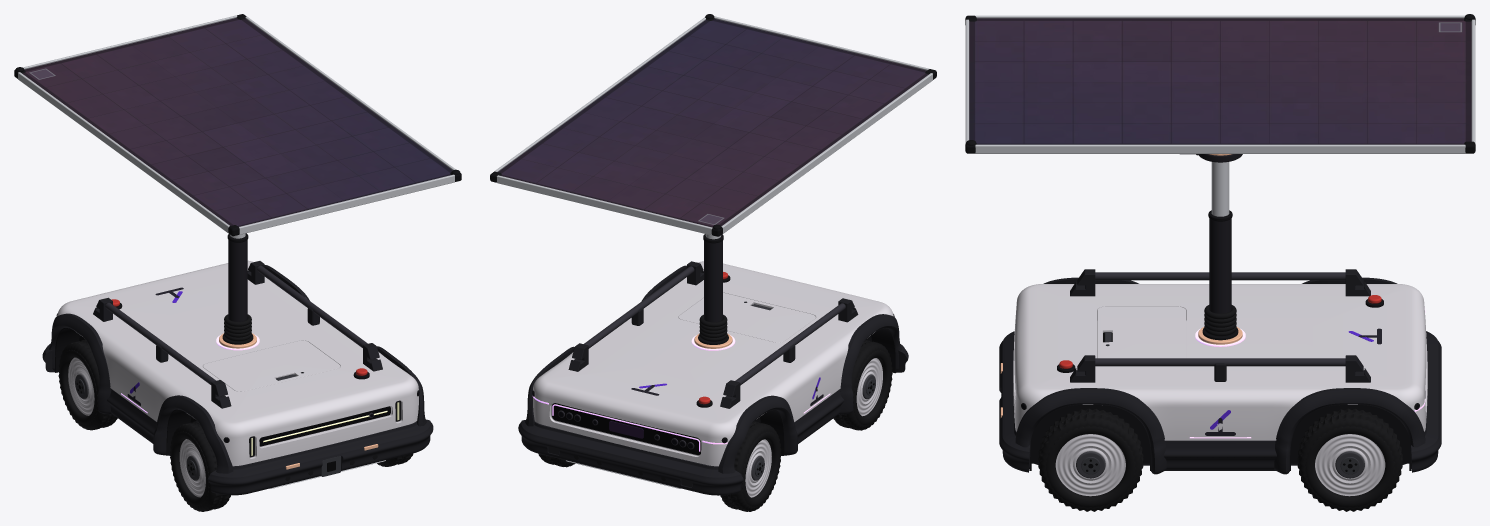
The model's file is solarbot.glb.
3 views of the same model, side by side, from view 1: azimuth 30°, elevation 25°; view 2: azimuth 150°, elevation 25°; view 3: azimuth 270°, elevation 25° (orthographic). The views are drawn at different scales.
Parts seen in each view (by area): view 1: panel_glass, panel_cells, SolarBot__Deck_Pearl, SolarBot__Cladding_Textured, panel_tilt__Aluminum_Brushed, tire_RL, tire_FL, SolarBot__Aluminum_Anodized, mast_outer, SolarBot__Trim_Black, SolarBot__Visor_Smoked, rim_FL (+2 smaller); view 2: panel_glass, panel_cells, SolarBot__Deck_Pearl, SolarBot__Cladding_Textured, panel_tilt__Aluminum_Brushed, tire_FL, SolarBot__Aluminum_Anodized, tire_RL, SolarBot__Visor_Smoked, mast_outer, SolarBot__Trim_Black, rim_FL (+2 smaller); view 3: panel_glass, panel_cells, SolarBot__Deck_Pearl, SolarBot__Cladding_Textured, panel_tilt__Aluminum_Brushed, tire_RR, tire_FR, SolarBot__Aluminum_Anodized, SolarBot__Trim_Black, rim_FR, rim_RR, mast_outer (+2 smaller).
Part boxes in pixels (<box>): panel_glass: <box>22,17,452,226</box>; panel_cells: <box>22,18,452,226</box>; SolarBot__Deck_Pearl: <box>57,260,418,466</box>; SolarBot__Cladding_Textured: <box>42,261,433,495</box>; panel_tilt__Aluminum_Brushed: <box>18,15,455,234</box>; tire_RL: <box>170,421,230,511</box>; tire_FL: <box>58,339,117,430</box>; SolarBot__Aluminum_Anodized: <box>105,265,373,417</box>; mast_outer: <box>228,240,247,321</box>; SolarBot__Trim_Black: <box>54,233,369,454</box>; SolarBot__Visor_Smoked: <box>259,406,390,446</box>; rim_FL: <box>68,357,94,415</box>; panel_glass: <box>498,18,928,227</box>; panel_cells: <box>498,19,928,227</box>; SolarBot__Deck_Pearl: <box>533,261,893,466</box>; SolarBot__Cladding_Textured: <box>518,261,908,495</box>; panel_tilt__Aluminum_Brushed: <box>494,16,932,235</box>; tire_FL: <box>720,421,781,511</box>; SolarBot__Aluminum_Anodized: <box>558,266,845,449</box>; tire_RL: <box>833,340,892,430</box>; SolarBot__Visor_Smoked: <box>552,403,701,454</box>; mast_outer: <box>704,241,722,322</box>; SolarBot__Trim_Black: <box>696,234,896,454</box>; rim_FL: <box>745,439,771,497</box>; panel_glass: <box>969,17,1471,144</box>; panel_cells: <box>969,18,1471,144</box>; SolarBot__Deck_Pearl: <box>1013,284,1427,440</box>; SolarBot__Cladding_Textured: <box>999,269,1441,474</box>; panel_tilt__Aluminum_Brushed: <box>965,15,1475,153</box>; tire_RR: <box>1038,408,1143,511</box>; tire_FR: <box>1297,408,1402,511</box>; SolarBot__Aluminum_Anodized: <box>1095,272,1345,366</box>; SolarBot__Trim_Black: <box>1029,210,1411,470</box>; rim_FR: <box>1315,434,1385,496</box>; rim_RR: <box>1055,434,1125,496</box>; mast_outer: <box>1209,218,1231,313</box>.
Bounding box in the file's own units: 1 × 1.35 × 1.65.
Materials: 27 (1 with a texture image).
